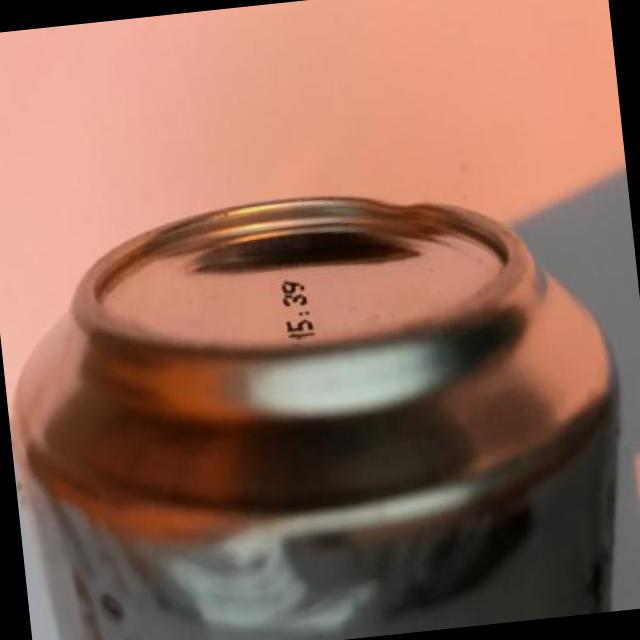nhom: (10, 194, 624, 640)
